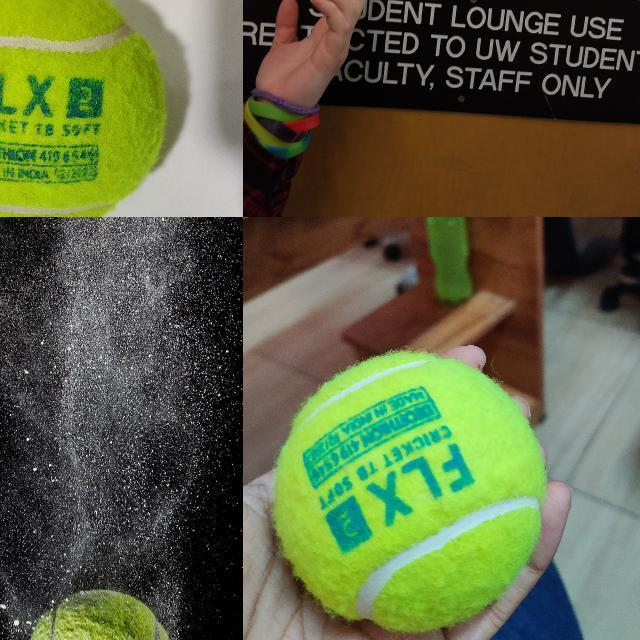tennis-ball: (275, 353, 546, 630), (0, 0, 170, 216), (24, 589, 175, 639)
